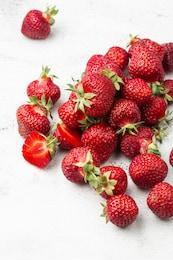Fresa: (74, 71, 118, 120), (80, 119, 119, 166), (60, 144, 102, 187), (127, 47, 167, 88), (127, 153, 170, 191), (102, 192, 141, 231), (107, 95, 143, 136), (15, 102, 53, 140), (23, 73, 62, 110), (95, 165, 130, 201), (18, 7, 53, 42)
